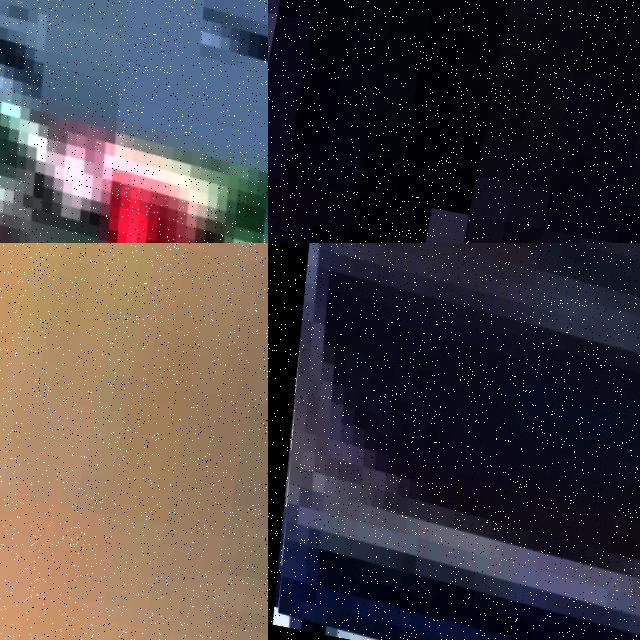drone: (268, 243, 640, 640), (0, 0, 268, 243)
